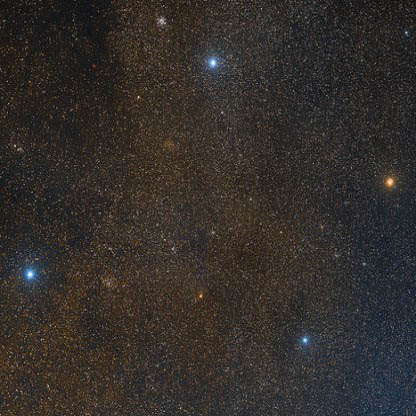Southern Cross: (16, 255, 50, 296), (287, 325, 321, 358), (377, 164, 403, 198), (201, 49, 220, 80)
